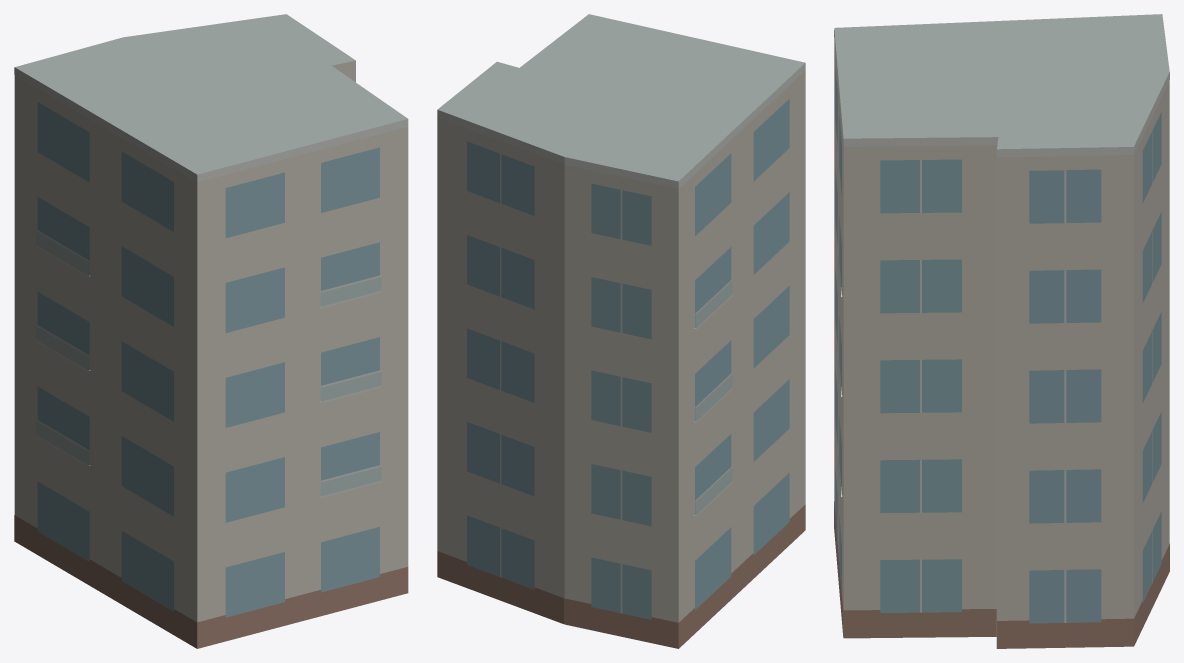
The model's file is survey-upis-32750009.glb.
3 renders of one model, left to right at view 1: azimuth 30°, elevation 25°; view 2: azimuth 150°, elevation 25°; view 3: azimuth 270°, elevation 25°, orthographic. The views are drawn at different scales.
Parts seen in each view (by area): view 1: survey-upis-32750009.tmp; view 2: survey-upis-32750009.tmp; view 3: survey-upis-32750009.tmp.
Boxes of the visible parts, <box> form: survey-upis-32750009.tmp: <box>14,14,408,648</box>; survey-upis-32750009.tmp: <box>437,14,805,648</box>; survey-upis-32750009.tmp: <box>834,14,1169,648</box>.
Bounding box in the file's own units: 8.77 × 15.1 × 9.2.
